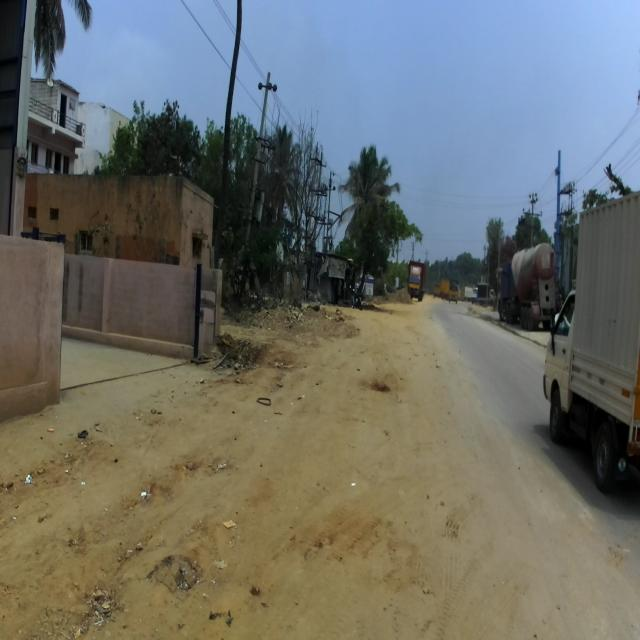truck ahead at: (549, 200, 640, 477)
